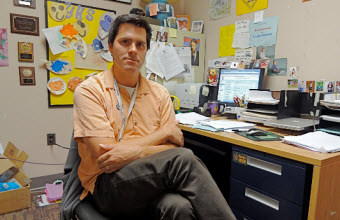Person: (78, 18, 226, 212)
